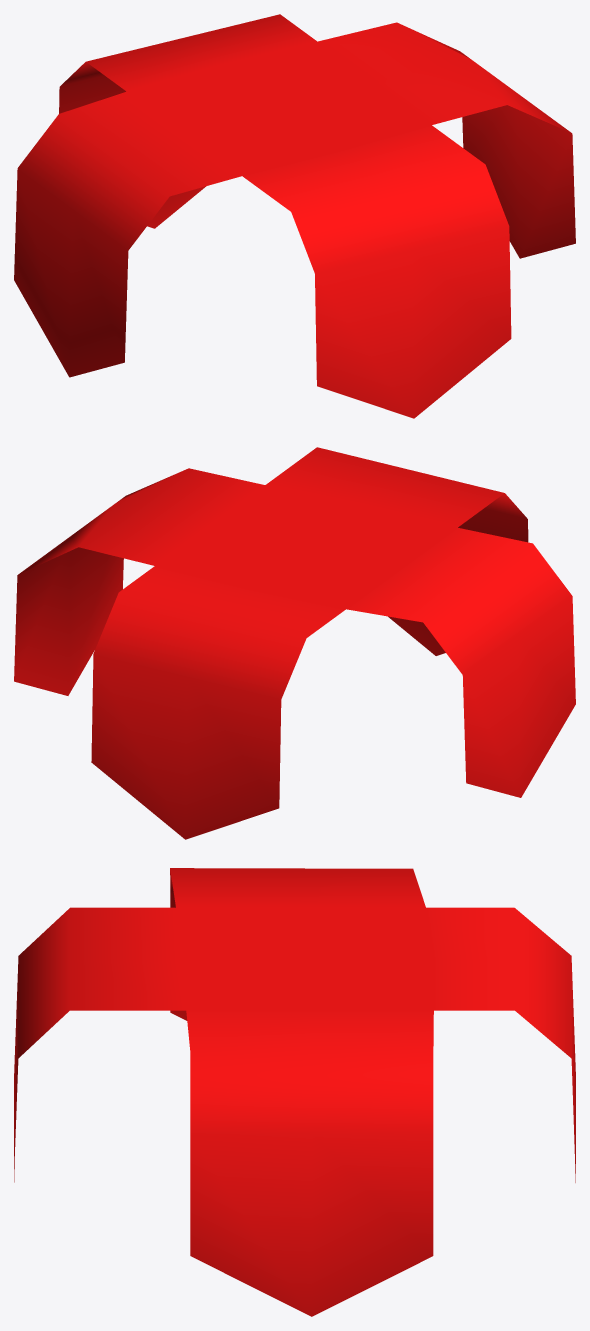
File: PushableObjectLargeCloth.fbx
3 renders of one model, top to bottom at view 1: azimuth 30°, elevation 25°; view 2: azimuth 150°, elevation 25°; view 3: azimuth 270°, elevation 25°, orthographic. The views are drawn at different scales.
Visible parts, largest first — view 1: PushableObjectLargeCloth; view 2: PushableObjectLargeCloth; view 3: PushableObjectLargeCloth.
Boxes of the visible parts, x1,y1,x2,y2 form: PushableObjectLargeCloth: (14, 14, 575, 418); PushableObjectLargeCloth: (14, 447, 575, 839); PushableObjectLargeCloth: (14, 868, 575, 1316).
Bounding box in the file's own units: 26.25 × 11.53 × 25.62.
